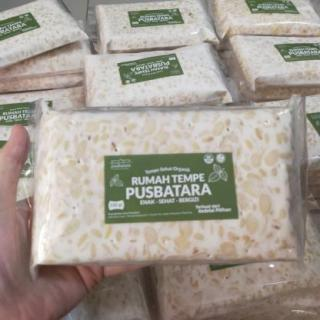Tempe: (29, 106, 304, 263)
